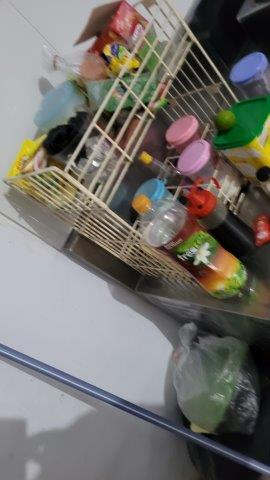botolplastik: (132, 193, 250, 301)
